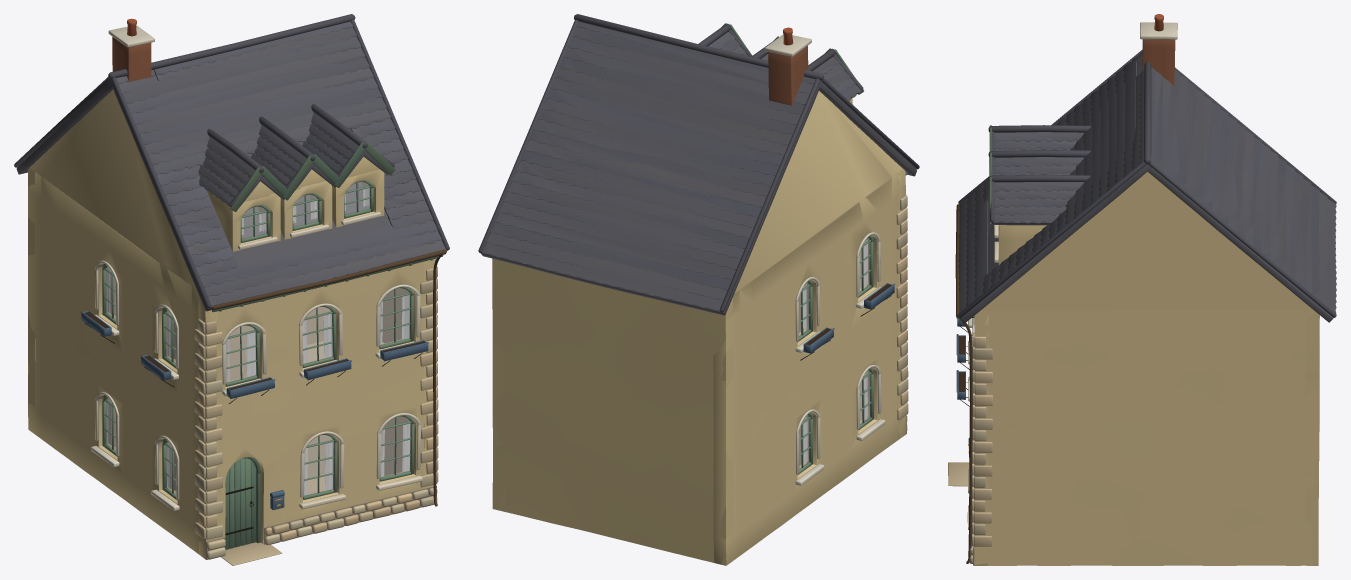
The model's file is Opposite_Opposite1_1.glb.
3 views of the same model, side by side, from view 1: azimuth 30°, elevation 25°; view 2: azimuth 150°, elevation 25°; view 3: azimuth 270°, elevation 25° (orthographic). The views are drawn at different scales.
Parts seen in each view (by area): view 1: Sammel Putz, Sammel Stein, Sammel Lack, Glas, Sammel Putz innen, Vorhang Leinen, Sammel Metall, Sammel Ziegel; view 2: Sammel Putz, Sammel Stein, Sammel Lack, Sammel Ziegel, Glas, Vorhang Leinen; view 3: Sammel Putz, Sammel Stein, Sammel Metall, Sammel Ziegel, Sammel Lack.
Boxes of the visible parts, x1,y1,x2,y2 form: Sammel Putz: (27,18,436,559); Sammel Stein: (14,14,449,565); Sammel Lack: (80,141,443,549); Glas: (106,182,410,495); Sammel Putz innen: (113,277,408,494); Vorhang Leinen: (107,188,410,495); Sammel Metall: (84,249,446,535); Sammel Ziegel: (112,37,151,81); Sammel Putz: (492,27,906,565); Sammel Stein: (478,14,919,430); Sammel Lack: (721,23,907,474); Sammel Ziegel: (768,46,808,105); Glas: (799,238,869,468); Vorhang Leinen: (803,240,867,463); Sammel Putz: (958,14,1319,565); Sammel Stein: (948,49,1336,563); Sammel Metall: (955,204,972,563); Sammel Ziegel: (1142,39,1175,85); Sammel Lack: (956,125,991,457).
Bounding box in the file's own units: 6.61 × 11.55 × 9.03.
